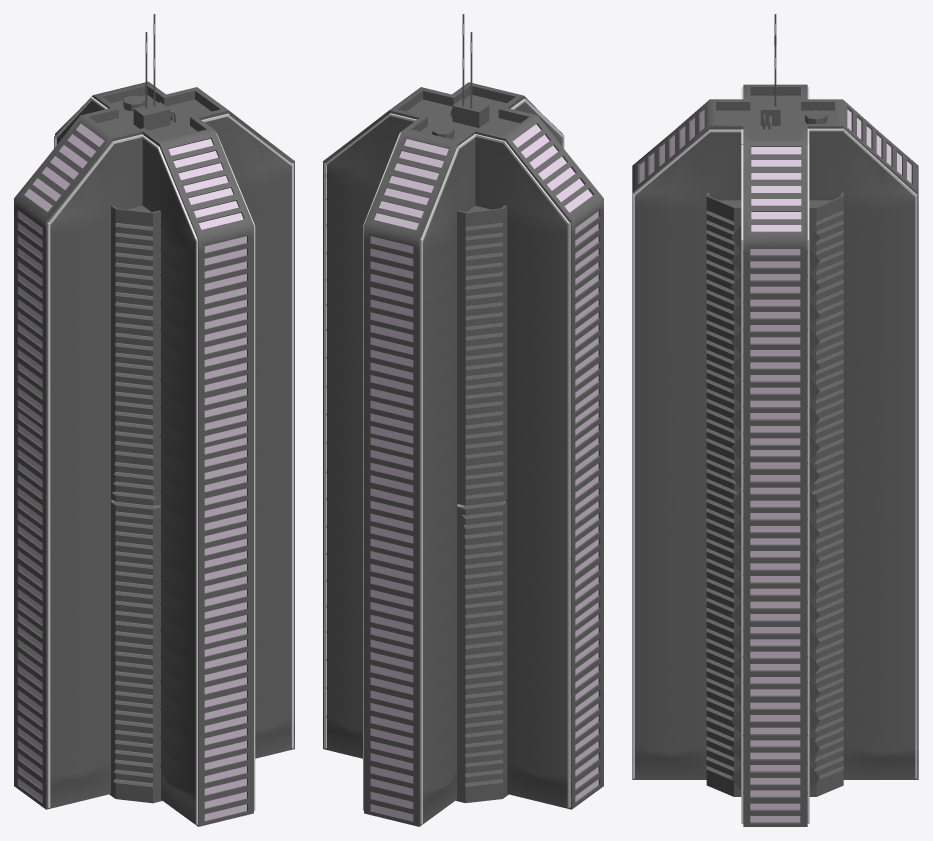
File: SM_Building_7.fbx
3 renders of one model, left to right at view 1: azimuth 30°, elevation 25°; view 2: azimuth 150°, elevation 25°; view 3: azimuth 270°, elevation 25°, orthographic.
Visible parts, largest first — view 1: pCube230, pCube469, pCube473, pCube471, pCube482, pCube477, pCube487, pCube474, pCube490, pCube486, pCube485, pCube478; view 2: pCube230, pCube466, pCube472, pCube471, pCube476, pCube488, pCube474, pCube483, pCube489, pCube478, pCube484, pCube480; view 3: pCube230, pCube468, pCube467, pCube470, pCube475, pCube484, pCube490, pCube489, pCube485, pCube476, pCube477, pCube478.
Part boxes in pixels (x1=…): pCube230: x1=14, y1=81, x2=294, y2=826; pCube469: x1=109, y1=205, x2=162, y2=803; pCube473: x1=204, y1=236, x2=246, y2=820; pCube471: x1=19, y1=211, x2=42, y2=801; pCube482: x1=112, y1=223, x2=160, y2=783; pCube477: x1=168, y1=139, x2=243, y2=229; pCube487: x1=47, y1=222, x2=50, y2=807; pCube474: x1=24, y1=123, x2=104, y2=211; pCube490: x1=291, y1=163, x2=293, y2=748; pCube486: x1=195, y1=240, x2=197, y2=824; pCube485: x1=254, y1=226, x2=255, y2=810; pCube478: x1=133, y1=102, x2=170, y2=130; pCube230: x1=323, y1=82, x2=603, y2=826; pCube466: x1=455, y1=205, x2=508, y2=803; pCube472: x1=371, y1=236, x2=413, y2=820; pCube471: x1=575, y1=211, x2=598, y2=801; pCube476: x1=374, y1=139, x2=448, y2=229; pCube488: x1=567, y1=222, x2=570, y2=807; pCube474: x1=512, y1=124, x2=592, y2=212; pCube483: x1=420, y1=239, x2=422, y2=824; pCube489: x1=324, y1=163, x2=326, y2=748; pCube478: x1=452, y1=98, x2=489, y2=127; pCube484: x1=363, y1=225, x2=363, y2=810; pCube480: x1=457, y1=223, x2=504, y2=782; pCube230: x1=632, y1=84, x2=918, y2=826; pCube468: x1=706, y1=192, x2=741, y2=796; pCube467: x1=809, y1=192, x2=843, y2=796; pCube470: x1=750, y1=249, x2=800, y2=822; pCube475: x1=751, y1=147, x2=801, y2=231; pCube484: x1=915, y1=194, x2=917, y2=778; pCube490: x1=741, y1=239, x2=743, y2=823; pCube489: x1=807, y1=240, x2=809, y2=823; pCube485: x1=633, y1=194, x2=634, y2=778; pCube476: x1=847, y1=109, x2=911, y2=183; pCube477: x1=640, y1=109, x2=704, y2=182; pCube478: x1=760, y1=97, x2=780, y2=125.
Bounding box in the file's own units: 25.76 × 74.77 × 25.76.
